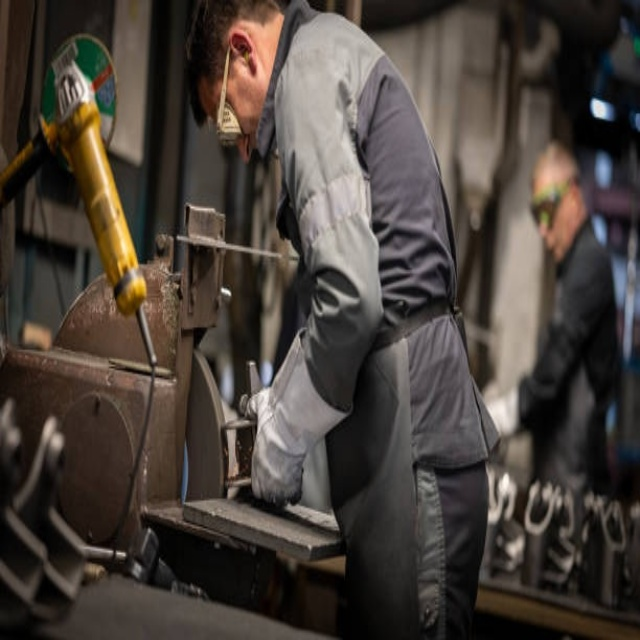Gafas: (216, 38, 246, 150), (531, 176, 575, 227), (185, 0, 214, 64)
Guantes: (236, 327, 368, 508)
